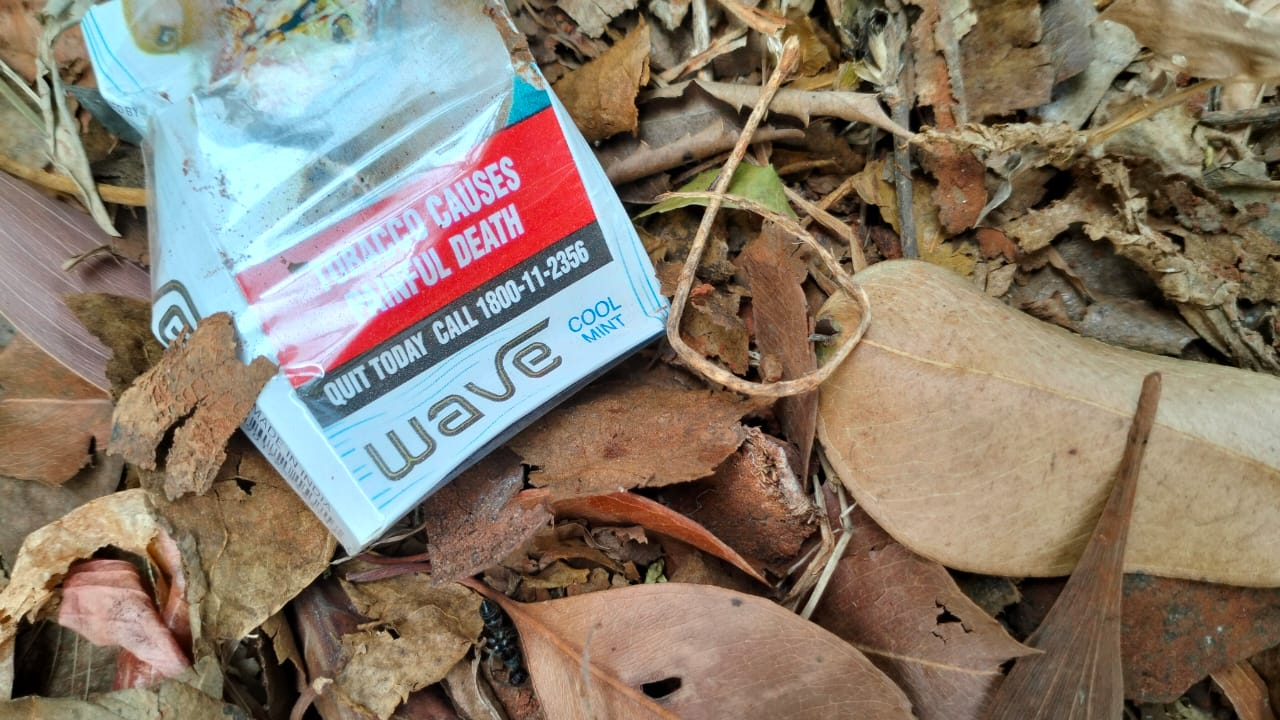paper: (246, 2, 680, 578)
